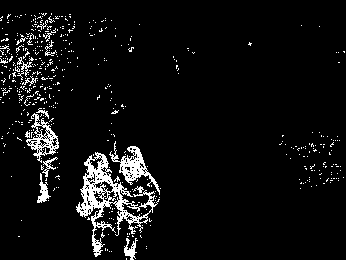person: (121, 148, 168, 257), (78, 150, 120, 253), (21, 107, 60, 203)
